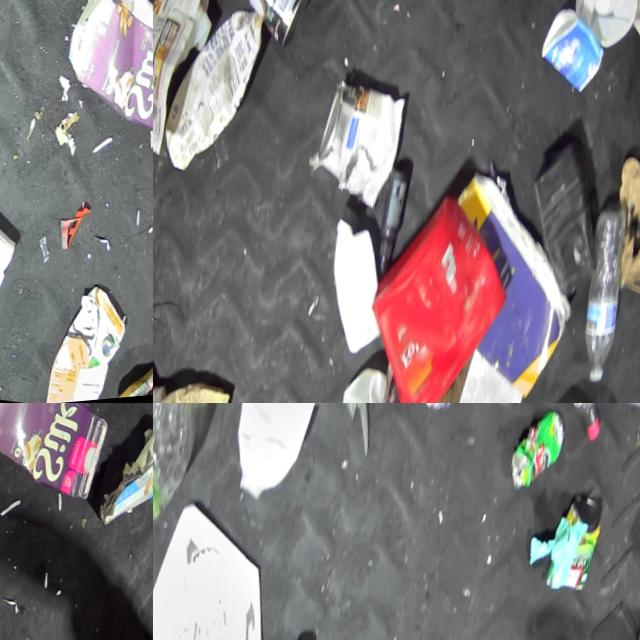can: (290, 73, 411, 223), (488, 411, 566, 512), (228, 0, 320, 63)
milk_jug: (201, 403, 352, 521)
non_white_jug: (330, 181, 529, 403), (153, 0, 272, 184), (45, 0, 153, 156), (24, 280, 128, 403)
plastic_bottle: (552, 209, 639, 397), (153, 403, 226, 572)
